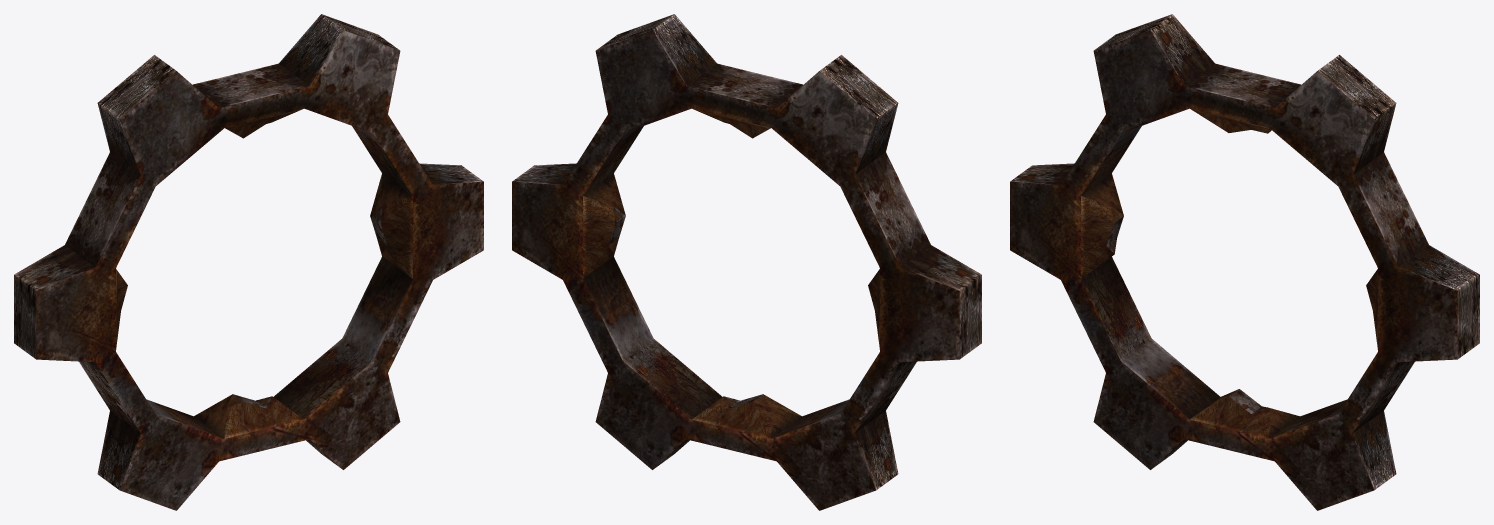
The model's file is cogwheel_small_broken02.dae.
3 views of the same model, side by side, from view 1: azimuth 30°, elevation 25°; view 2: azimuth 150°, elevation 25°; view 3: azimuth 330°, elevation 25° (orthographic).
Visible parts, largest first — view 1: polySurface17; view 2: polySurface17; view 3: polySurface17.
Boxes of the visible parts, x1,y1,x2,y2 form: polySurface17: [14, 14, 483, 510]; polySurface17: [512, 14, 981, 510]; polySurface17: [1010, 14, 1479, 510].
Size of the model in its own units: 1.46 by 1.37 by 0.1745.
